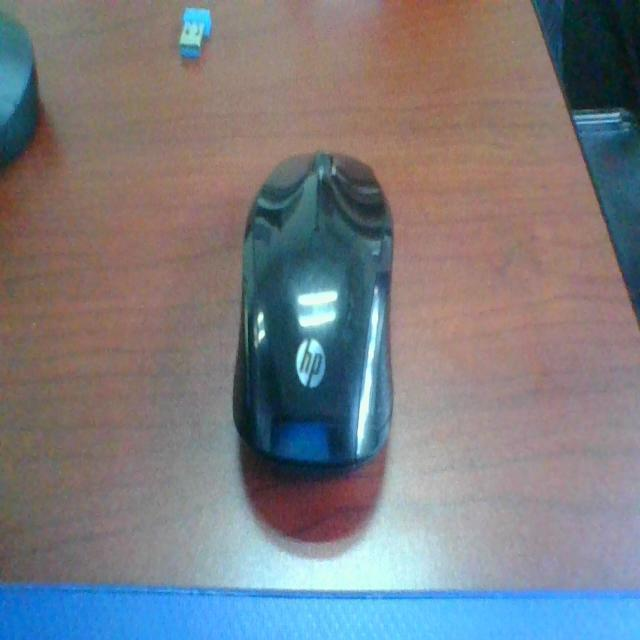Mouse: (220, 120, 420, 508)
